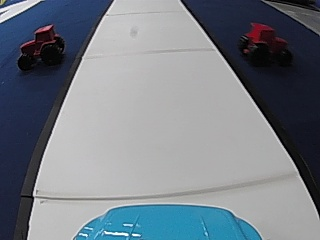tractor: (237, 20, 293, 68), (14, 22, 65, 71)
